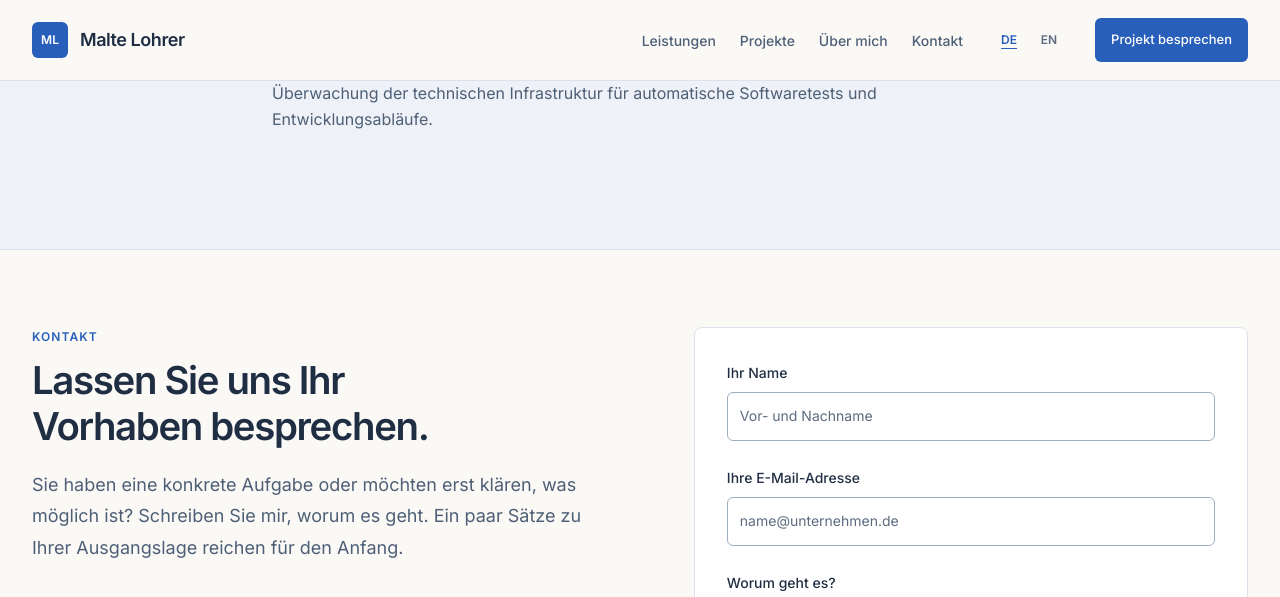
Scenario: Contact form › submits the entered details to the same-origin endpoint and confirms receipt
(page scrolled)
Step 1. Type "Lokaler Test" into the field labelled "Ihr Name" → (971, 416), box left=727, top=392, right=1215, bottom=441
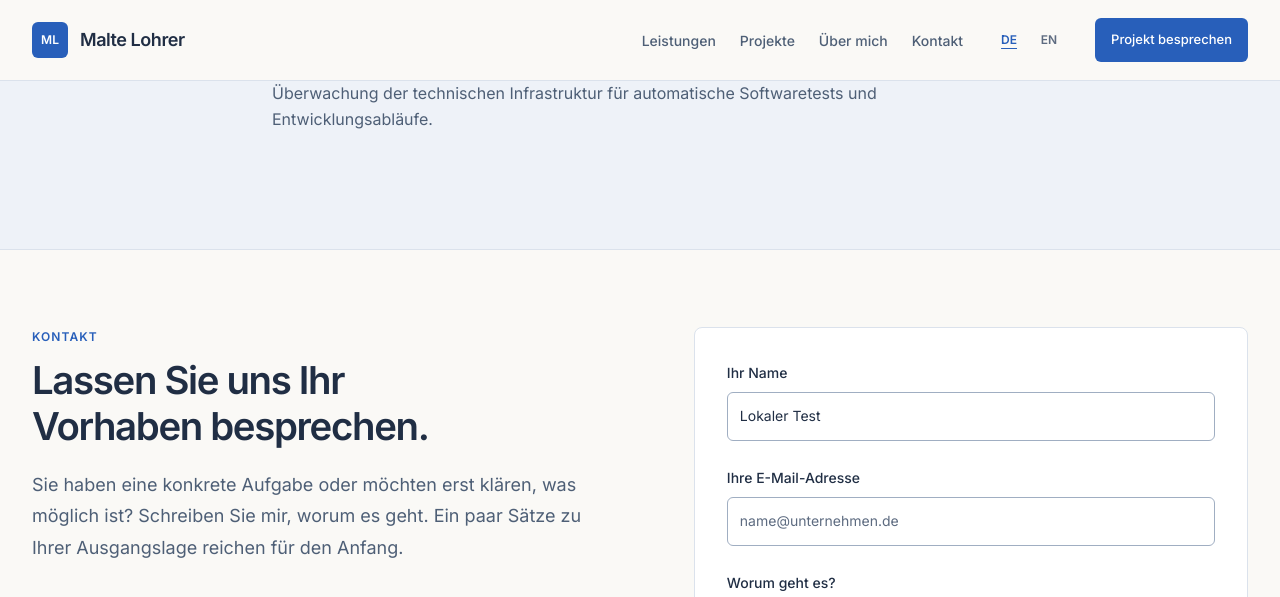
Step 2. Type "test@example.com" into the field labelled "Ihre E-Mail-Adresse" → (971, 521), box left=727, top=497, right=1215, bottom=546
(page scrolled)
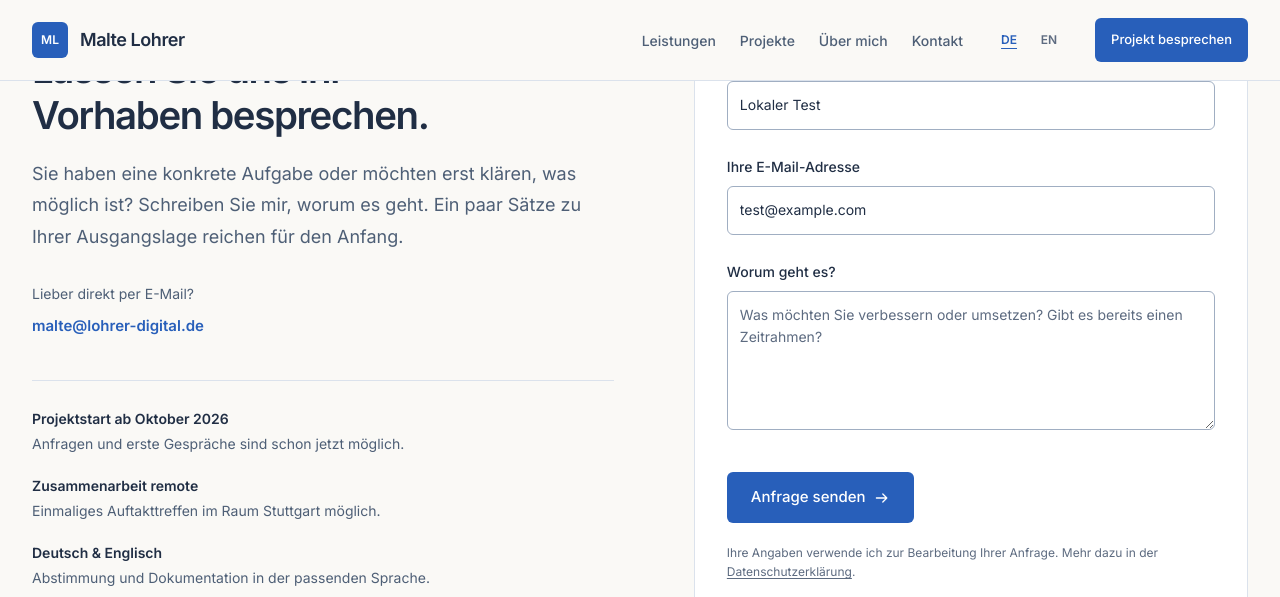
Step 3. Replace the text in the text box labelled "Worum geht es?" with "Lokale Testanfrage ohne Versand." → (971, 360), box left=727, top=291, right=1215, bottom=430
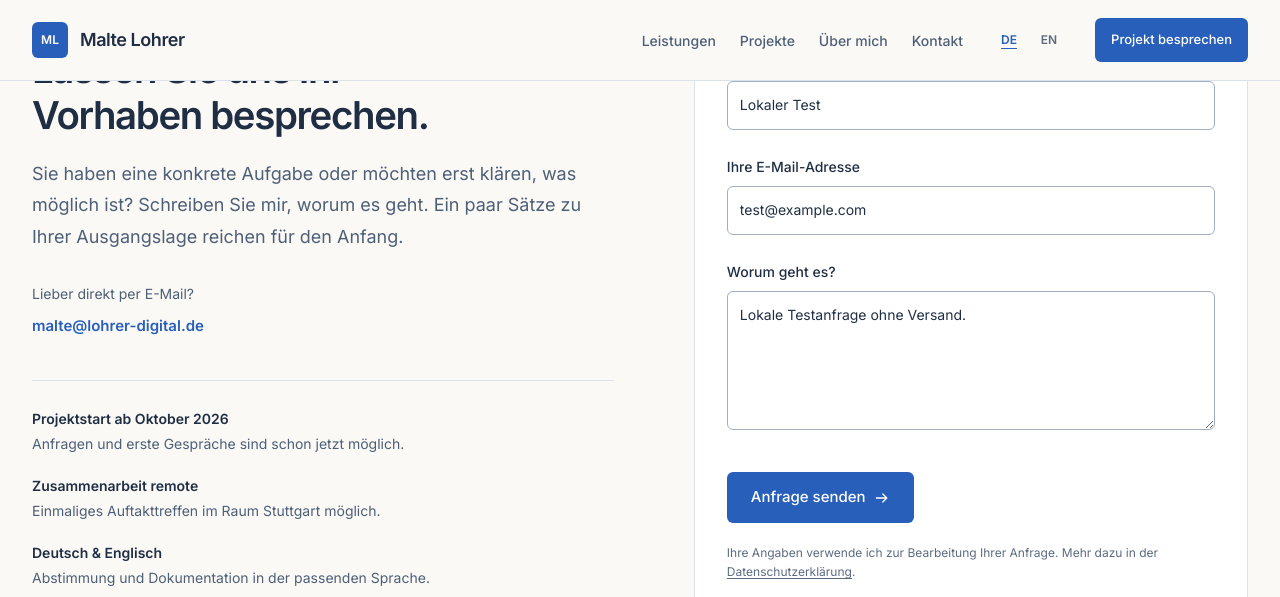
Step 4. Submit the form "Anfrage senden", box left=727, top=49, right=1215, bottom=582
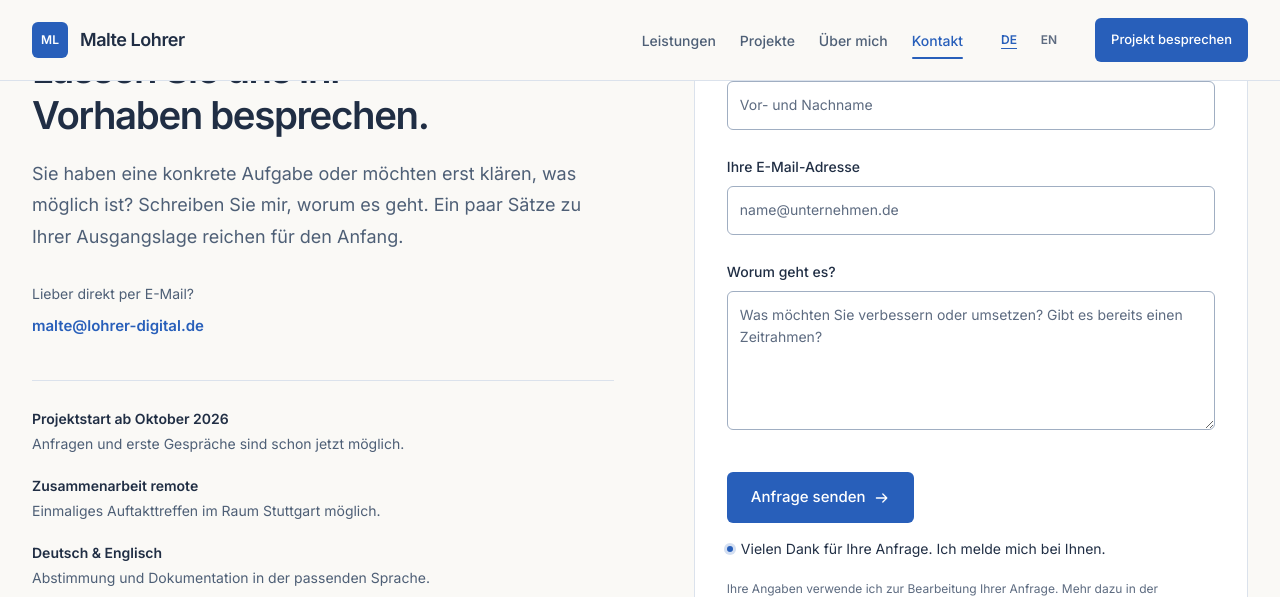
Now the text "Vielen Dank für Ihre Anfrage. Ich melde mich bei Ihnen." is shown, box left=727, top=539, right=1106, bottom=559
Now the text box labelled "Worum geht es?" is empty, box left=727, top=291, right=1215, bottom=430
